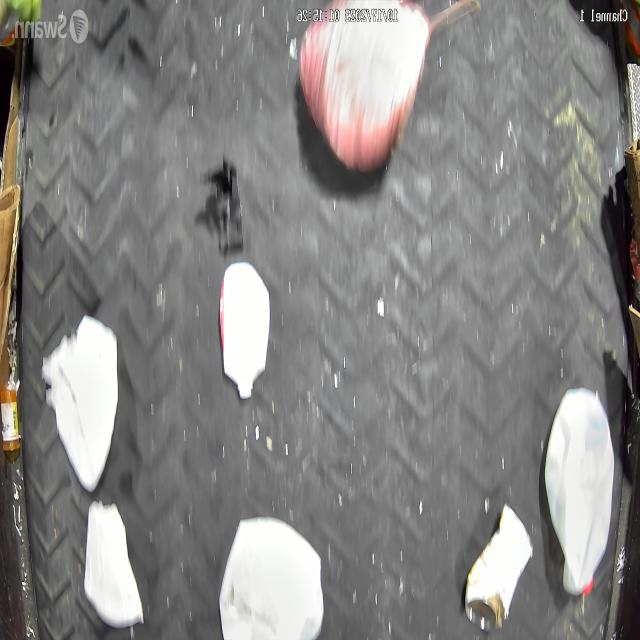milk_jug: (548, 385, 614, 595), (220, 514, 323, 640), (47, 314, 118, 490)
